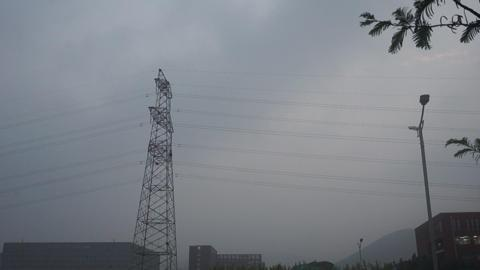UAV: (154, 162, 161, 166)
